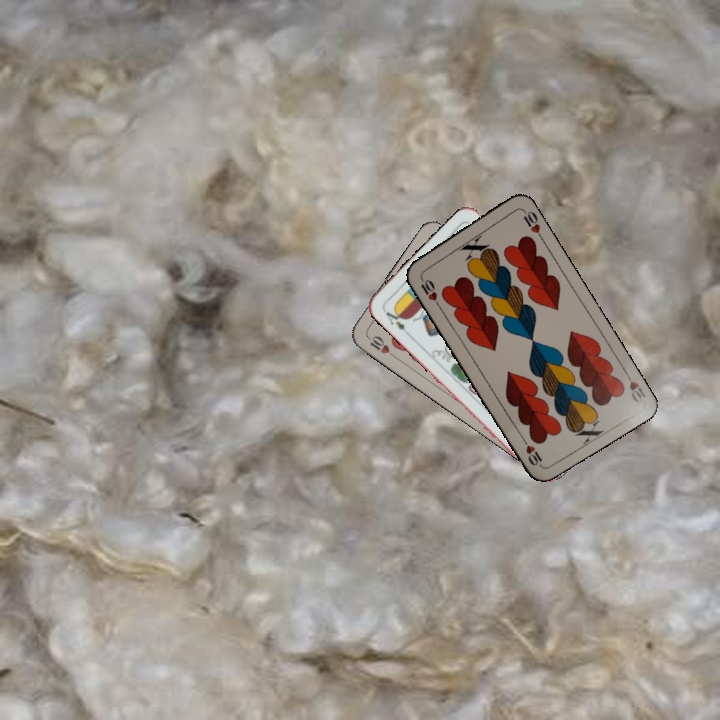EA: (379, 304, 408, 333)
H10: (620, 367, 648, 406), (363, 331, 398, 360), (416, 272, 442, 309)
